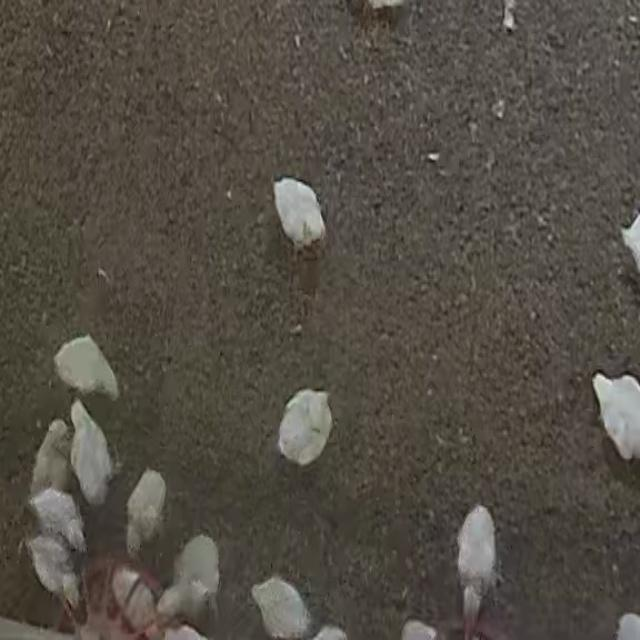chicken: (442, 500, 515, 623), (154, 534, 222, 631), (47, 338, 136, 405), (276, 382, 341, 469), (69, 397, 116, 509), (265, 172, 330, 245), (21, 535, 84, 610), (26, 417, 78, 501), (593, 372, 640, 460), (126, 468, 168, 561), (252, 576, 311, 639), (27, 492, 88, 552)
